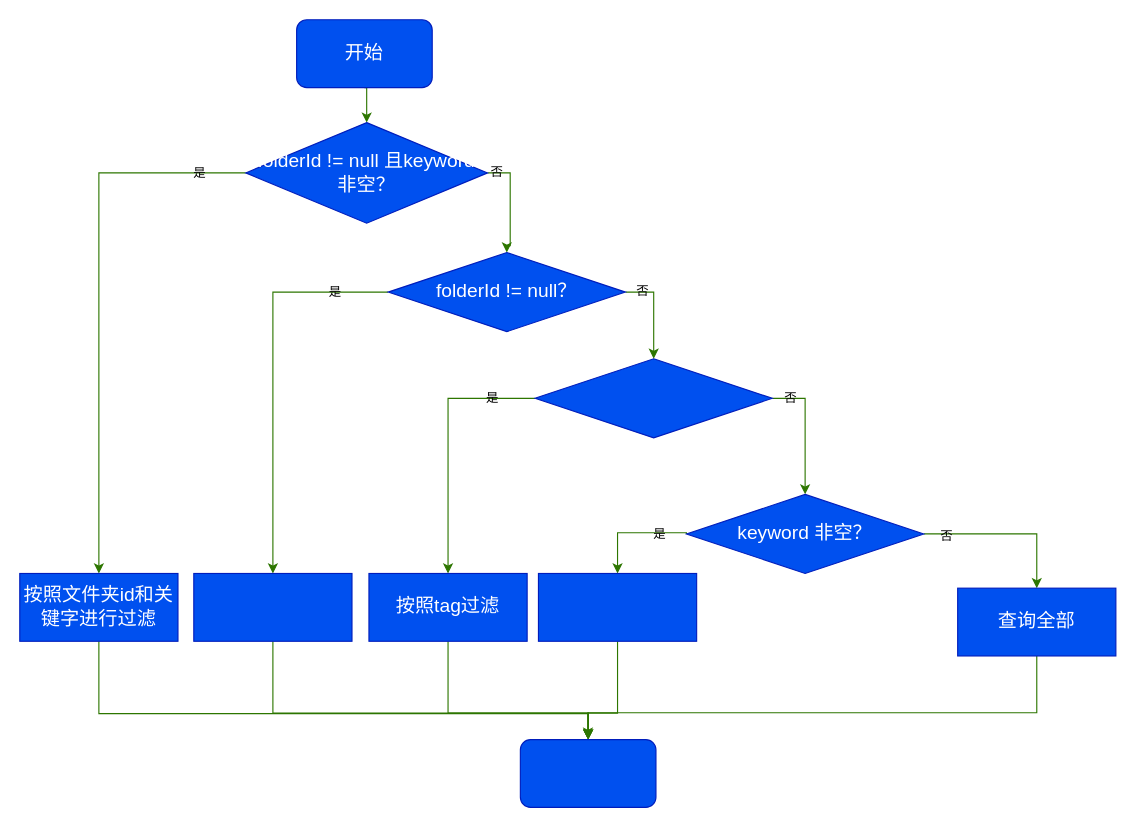
The diagram is 1136 pixels wide and 827 high, and some of its shapes have lost their labels. Here are the shapes that lost their labels. From the top down, the centre of each, then its label:
the point at 653,398: tag 非空？
the point at 272,606: 按照文件夹id过滤
the point at 617,606: 按照关键字过滤
the point at 587,772: 结束
